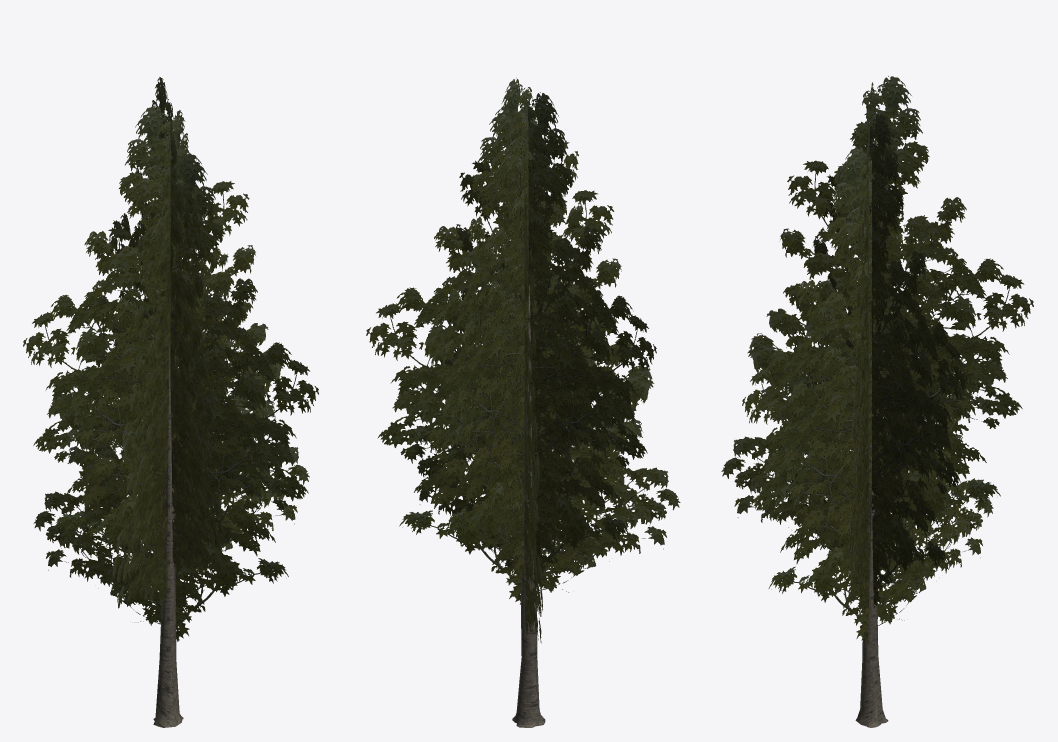
The model's file is tree_rt_2_1.fbx.
3 renders of one model, left to right at view 1: azimuth 30°, elevation 25°; view 2: azimuth 150°, elevation 25°; view 3: azimuth 270°, elevation 25°, orthographic. The views are drawn at different scales.
Parts seen in each view (by area): view 1: tree_rt_2_1; view 2: tree_rt_2_1; view 3: tree_rt_2_1.
Boxes of the visible parts, x1,y1,x2,y2 form: tree_rt_2_1: (23,77,318,727); tree_rt_2_1: (366,77,680,727); tree_rt_2_1: (721,76,1033,727).
Size of the model in its own units: 2.31 by 2.31 by 5.06.
